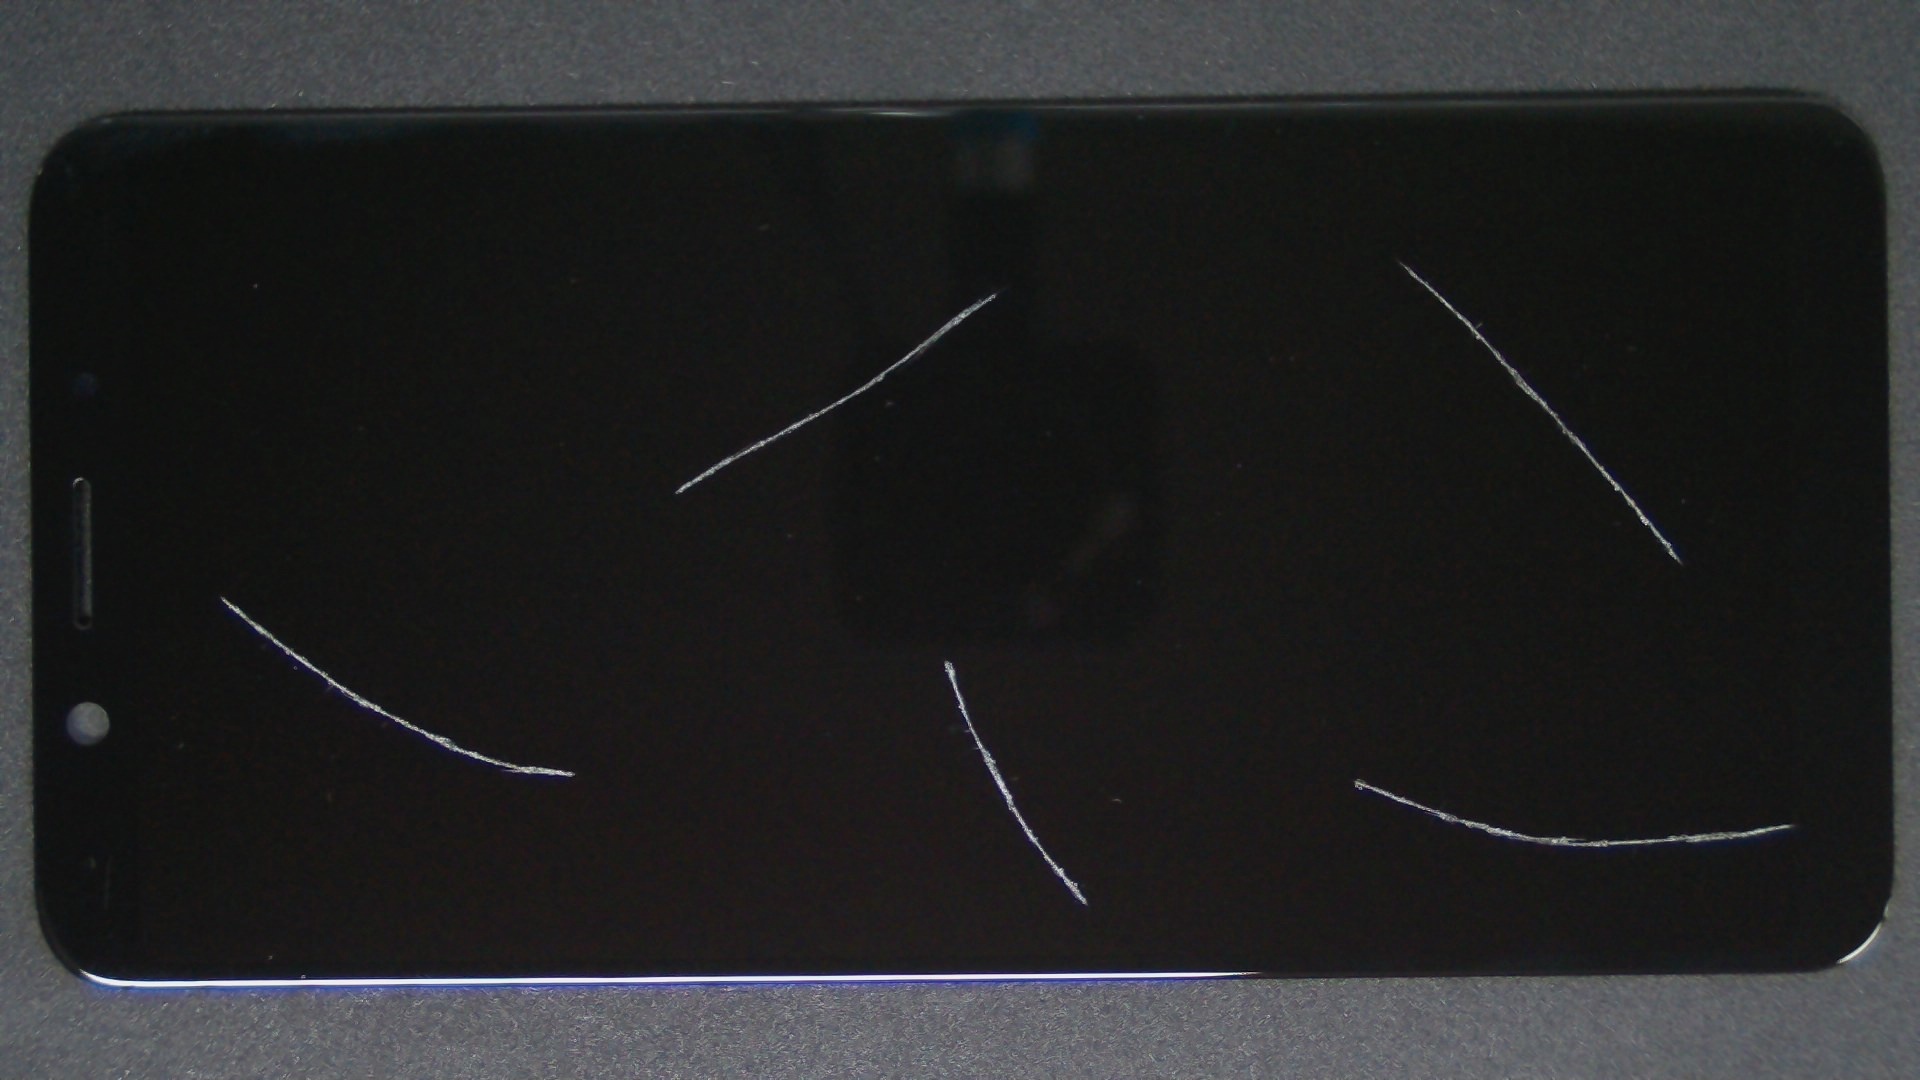oil: (679, 389, 1920, 1080), (473, 330, 1420, 990), (698, 129, 1920, 397), (497, 146, 1489, 442), (112, 297, 332, 895)
